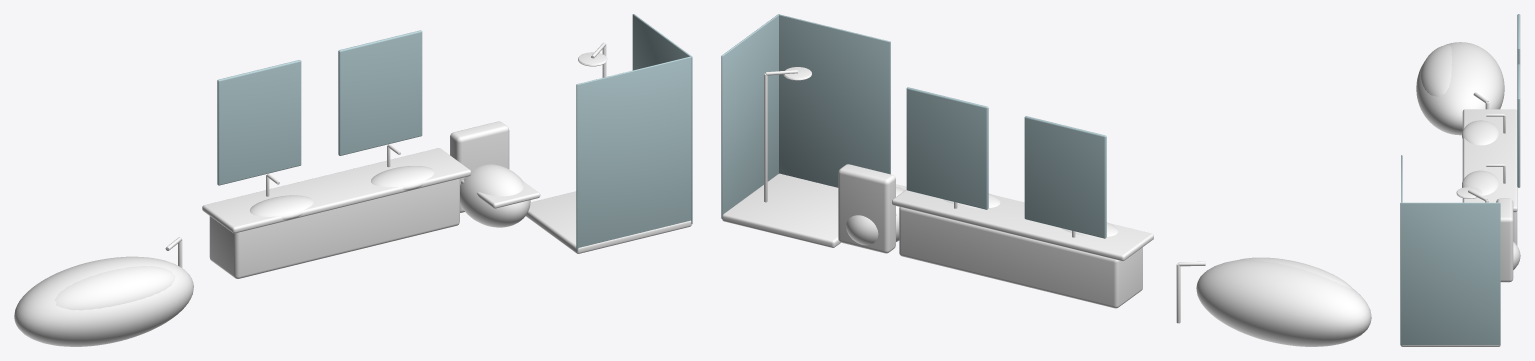
File: bathroom_suite.glb
3 views of the same model, side by side, from view 1: azimuth 30°, elevation 25°; view 2: azimuth 150°, elevation 25°; view 3: azimuth 270°, elevation 25° (orthographic). The views are drawn at different scales.
Parts seen in each view (by area): view 1: Shower glass front, Floating double vanity, Tall mirror, Tall mirror.001, Tub outer shell, Vanity stone top, Tub inner well, Wall-hung toilet bowl, Shower tray, Wall toilet cistern, Shower glass side, Inset basin 1 (+2 smaller); view 2: Shower glass front, Floating double vanity, Tub outer shell, Shower glass side, Tall mirror, Tall mirror.001, Shower tray, Vanity stone top, Wall toilet cistern, Wall-hung toilet bowl, Tub inner well, Rain shower riser; view 3: Shower glass side, Tub outer shell, Vanity stone top, Tub inner well, Wall toilet cistern, Inset basin 1, Inset basin 2, Tall mirror.001, Rain shower head, Tall mirror, Shower tray, Floating double vanity (+1 smaller).
Boxes of the visible parts, x1=… form: Shower glass front: x1=576, y1=56, x2=691, y2=251; Floating double vanity: x1=209, y1=178, x2=459, y2=278; Tall mirror: x1=217, y1=60, x2=301, y2=185; Tall mirror.001: x1=338, y1=30, x2=422, y2=155; Tub outer shell: x1=14, y1=256, x2=193, y2=346; Vanity stone top: x1=202, y1=148, x2=471, y2=233; Tub inner well: x1=54, y1=266, x2=175, y2=310; Wall-hung toilet bowl: x1=460, y1=164, x2=530, y2=227; Shower tray: x1=526, y1=191, x2=691, y2=253; Wall toilet cistern: x1=450, y1=121, x2=509, y2=212; Shower glass side: x1=632, y1=14, x2=692, y2=223; Inset basin 1: x1=250, y1=195, x2=313, y2=219; Shower glass front: x1=779, y1=14, x2=890, y2=187; Floating double vanity: x1=899, y1=207, x2=1142, y2=308; Tub outer shell: x1=1196, y1=259, x2=1371, y2=346; Shower glass side: x1=721, y1=14, x2=779, y2=218; Tall mirror: x1=1024, y1=116, x2=1106, y2=238; Tall mirror.001: x1=906, y1=87, x2=988, y2=209; Shower tray: x1=722, y1=173, x2=840, y2=247; Vanity stone top: x1=892, y1=189, x2=1153, y2=261; Wall toilet cistern: x1=838, y1=164, x2=895, y2=253; Wall-hung toilet bowl: x1=846, y1=187, x2=904, y2=245; Tub inner well: x1=1239, y1=257, x2=1353, y2=289; Rain shower riser: x1=764, y1=73, x2=767, y2=202; Shower glass side: x1=1400, y1=202, x2=1500, y2=345; Tub outer shell: x1=1416, y1=42, x2=1504, y2=135; Vanity stone top: x1=1462, y1=109, x2=1517, y2=212; Tub inner well: x1=1421, y1=44, x2=1451, y2=96; Wall toilet cistern: x1=1496, y1=198, x2=1513, y2=282; Inset basin 1: x1=1462, y1=120, x2=1498, y2=145; Inset basin 2: x1=1462, y1=170, x2=1498, y2=195; Tall mirror.001: x1=1517, y1=64, x2=1520, y2=187; Rain shower head: x1=1456, y1=187, x2=1481, y2=198; Tall mirror: x1=1517, y1=14, x2=1520, y2=64; Shower tray: x1=1400, y1=345, x2=1500, y2=346; Floating double vanity: x1=1513, y1=211, x2=1517, y2=245.
Size of the model in its own units: 9.51 by 2.78 by 1.82.
